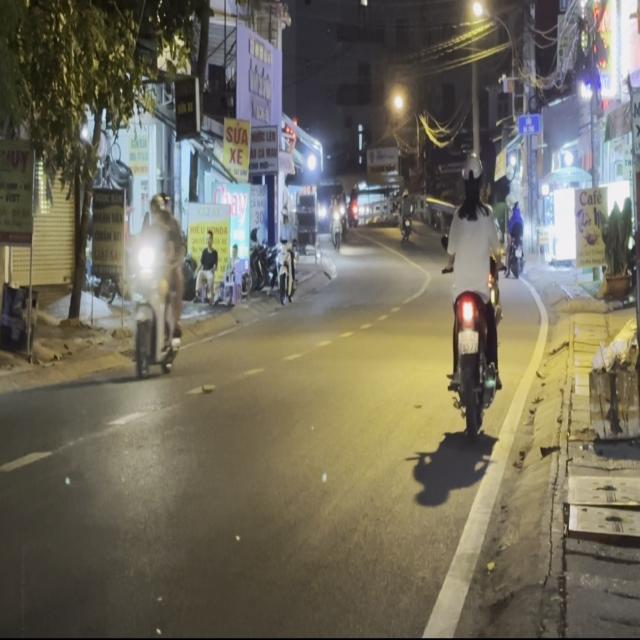helmet: (461, 151, 485, 200), (148, 190, 165, 219)
licenseplate: (441, 151, 504, 433), (127, 186, 186, 380)
nohelmet: (458, 330, 478, 353)
